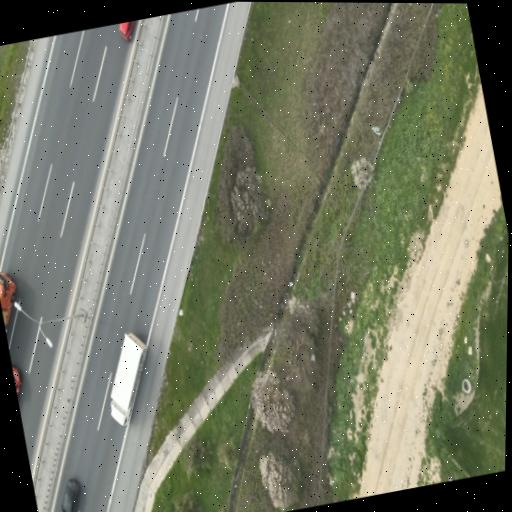car: (61, 479, 79, 511), (119, 21, 135, 39), (13, 366, 21, 394)
truck: (111, 332, 147, 425), (0, 271, 16, 328), (13, 366, 21, 395)
